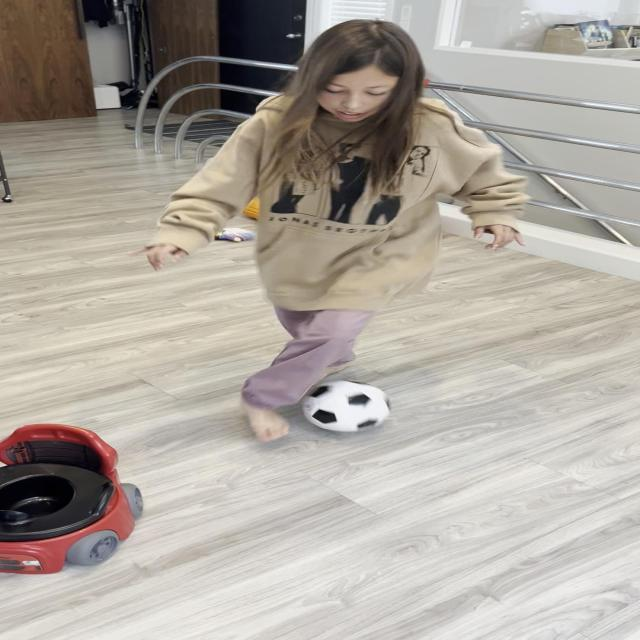Soccer Ball: (302, 381, 392, 432)
